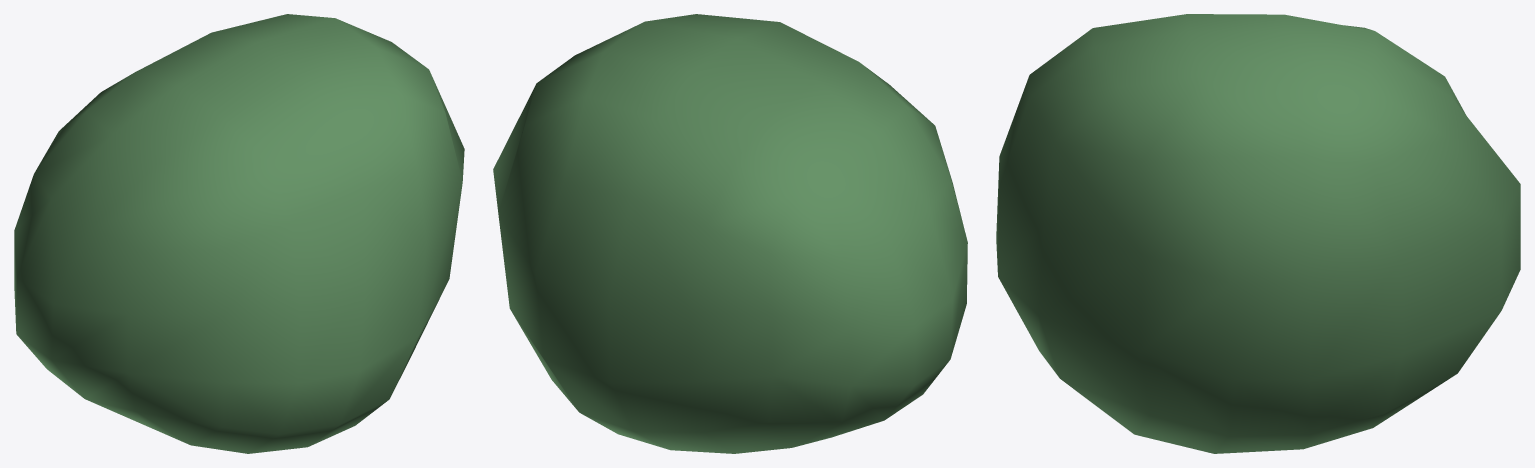
File: Bush_3.fbx
3 renders of one model, left to right at view 1: azimuth 30°, elevation 25°; view 2: azimuth 150°, elevation 25°; view 3: azimuth 270°, elevation 25°, orthographic. The views are drawn at different scales.
Parts seen in each view (by area): view 1: Bush_3; view 2: Bush_3; view 3: Bush_3.
Part boxes in pixels (x1,y1,x2,y2): Bush_3: (14,14,464,453); Bush_3: (493,14,967,453); Bush_3: (996,14,1520,453).
Bounding box in the file's own units: 3.45 × 2.88 × 3.37.
